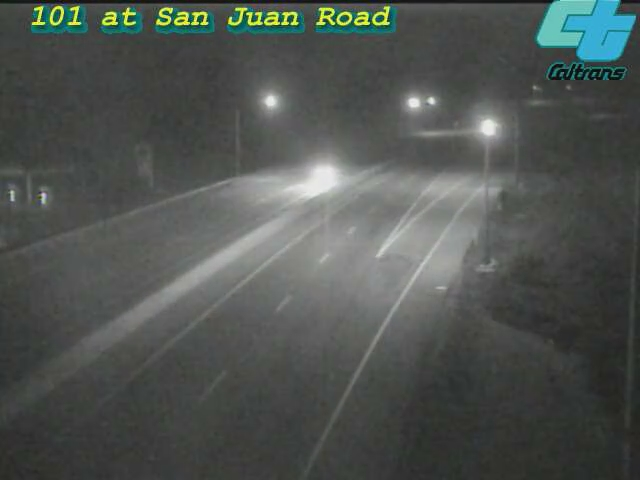vehicle: (282, 138, 362, 218), (457, 102, 507, 152)
